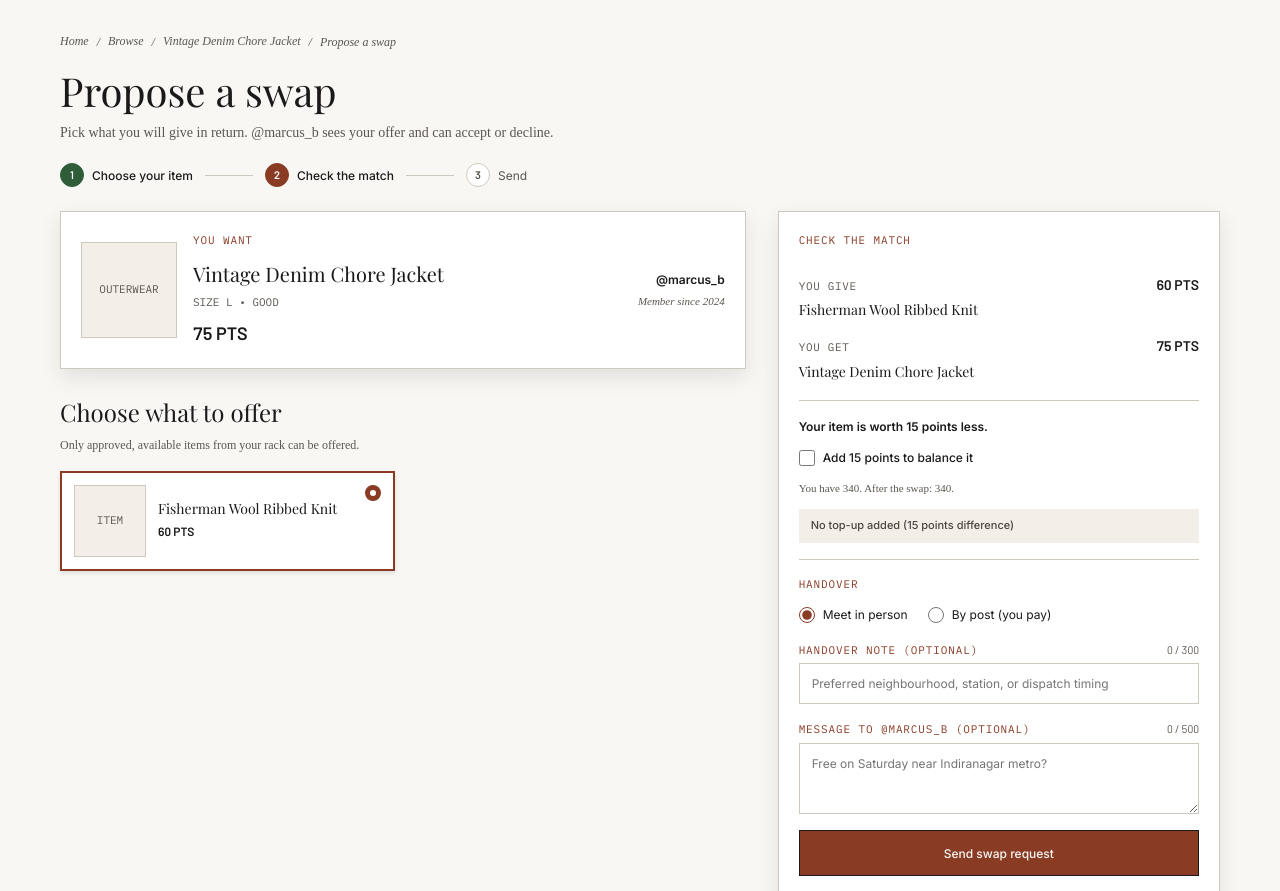
ProposeSwapPage › shows API rejection errors in a role=alert region without leaving page
Click the button "Send swap request" at (999, 853), box x1=799 y1=830 x2=1199 y2=876
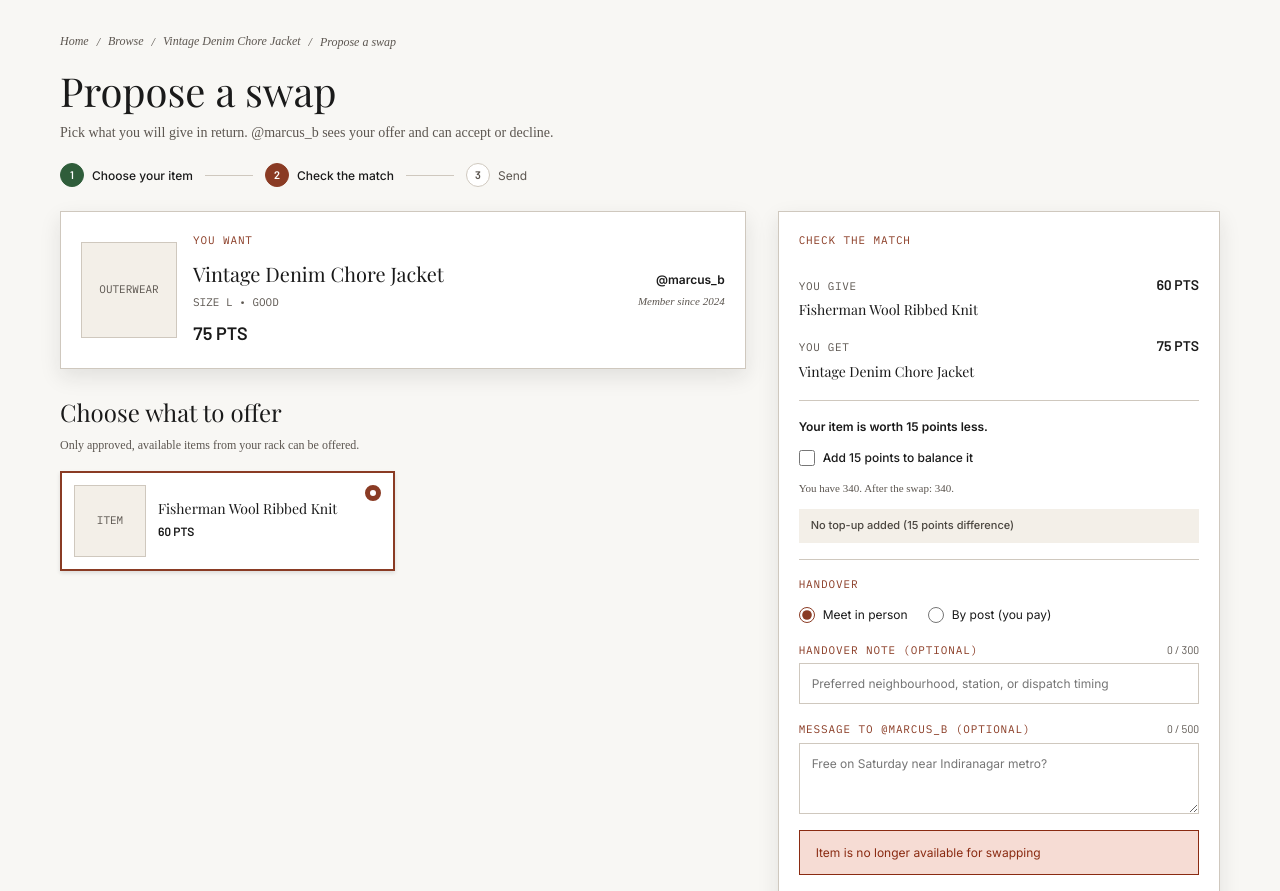
expect the text "Item is no longer available for swapping" is shown: met, box x1=799 y1=830 x2=1199 y2=875
